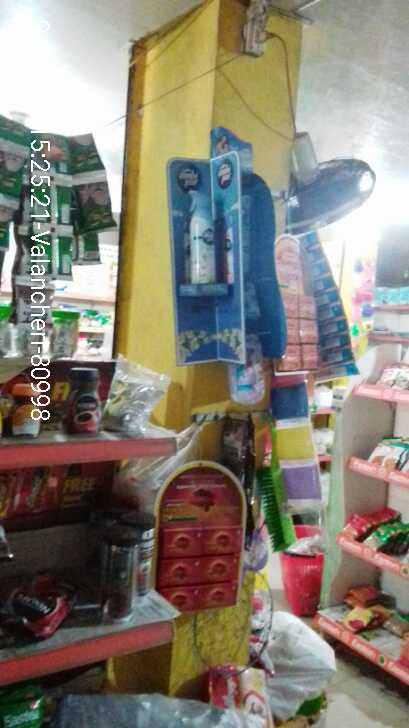ambipure: (183, 181, 224, 284)
